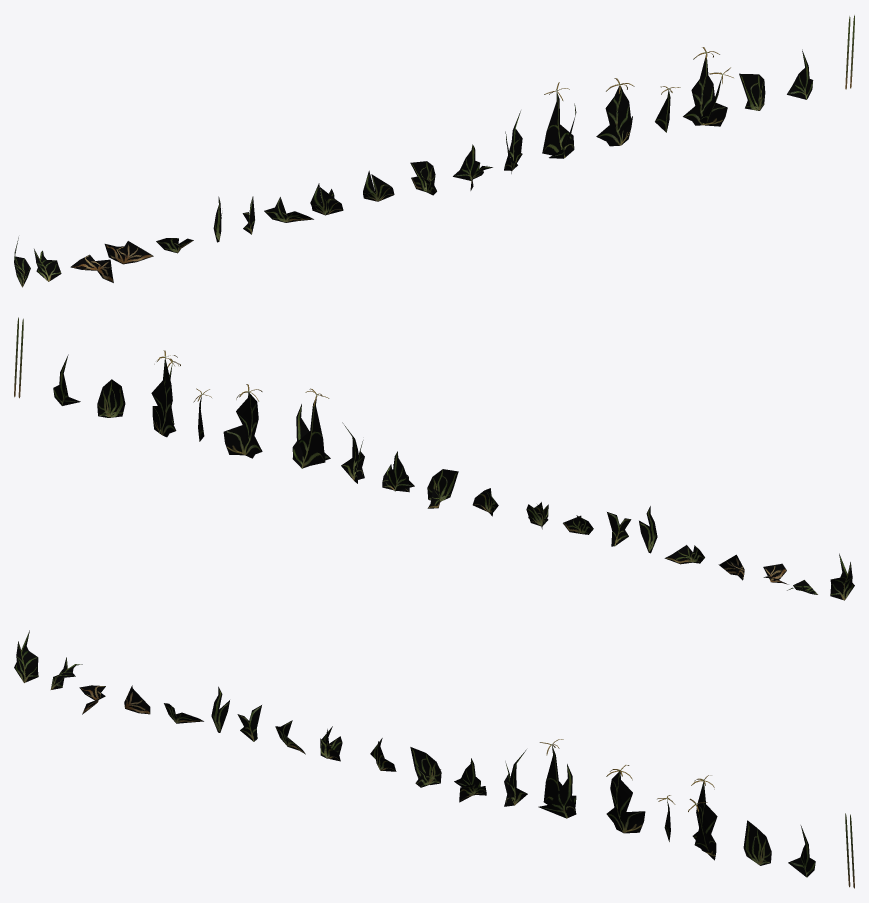
File: grass_bermuda_01_lod.glb
3 views of the same model, one above another, from view 1: azimuth 30°, elevation 25°; view 2: azimuth 150°, elevation 25°; view 3: azimuth 330°, elevation 25° (orthographic).
Visible parts, largest first — view 1: grass_bermuda_01_seedling_d, grass_bermuda_01_seedling_b, grass_bermuda_01_seedling_a, grass_bermuda_01_medium_b, grass_bermuda_01_dead_b, grass_bermuda_01_medium_c, grass_bermuda_01_small_c, grass_bermuda_01_small_d, grass_bermuda_01_medium_e, grass_bermuda_01_dead_a, grass_bermuda_01_medium_d, grass_bermuda_01_medium_f; view 2: grass_bermuda_01_seedling_b, grass_bermuda_01_seedling_a, grass_bermuda_01_seedling_d, grass_bermuda_01_medium_b, grass_bermuda_01_medium_c, grass_bermuda_01_medium_e, grass_bermuda_01_medium_a, grass_bermuda_01_medium_f; view 3: grass_bermuda_01_seedling_a, grass_bermuda_01_seedling_b, grass_bermuda_01_seedling_d, grass_bermuda_01_medium_b, grass_bermuda_01_medium_c, grass_bermuda_01_medium_a, grass_bermuda_01_medium_e, grass_bermuda_01_medium_f, grass_bermuda_01_medium_d.
Boxes of the visible parts, box(x1,y1,x2,y2) form: grass_bermuda_01_seedling_d: box(683, 47, 733, 126); grass_bermuda_01_seedling_b: box(596, 78, 634, 146); grass_bermuda_01_seedling_a: box(542, 82, 576, 158); grass_bermuda_01_medium_b: box(739, 73, 765, 110); grass_bermuda_01_dead_b: box(104, 241, 153, 264); grass_bermuda_01_medium_c: box(410, 161, 436, 195); grass_bermuda_01_small_c: box(310, 183, 343, 215); grass_bermuda_01_small_d: box(363, 170, 394, 201); grass_bermuda_01_medium_e: box(453, 144, 492, 190); grass_bermuda_01_dead_a: box(70, 254, 113, 282); grass_bermuda_01_medium_d: box(787, 49, 813, 99); grass_bermuda_01_medium_f: box(504, 111, 522, 173); grass_bermuda_01_seedling_b: box(223, 384, 262, 458); grass_bermuda_01_seedling_a: box(292, 388, 330, 468); grass_bermuda_01_seedling_d: box(151, 350, 180, 437); grass_bermuda_01_medium_b: box(97, 379, 125, 417); grass_bermuda_01_medium_c: box(427, 469, 458, 508); grass_bermuda_01_medium_e: box(382, 451, 414, 492); grass_bermuda_01_medium_a: box(830, 553, 854, 600); grass_bermuda_01_medium_f: box(341, 422, 364, 483); grass_bermuda_01_seedling_a: box(538, 739, 576, 818); grass_bermuda_01_seedling_b: box(606, 765, 645, 833); grass_bermuda_01_seedling_d: box(688, 775, 717, 860); grass_bermuda_01_medium_b: box(743, 820, 771, 865); grass_bermuda_01_medium_c: box(410, 747, 441, 787); grass_bermuda_01_medium_a: box(14, 630, 38, 682); grass_bermuda_01_medium_e: box(454, 758, 486, 802); grass_bermuda_01_medium_f: box(504, 749, 527, 806); grass_bermuda_01_medium_d: box(788, 825, 815, 877).
Size of the model in its own units: 1.69 by 0.1583 by 0.1409.
Materials: 1 (1 with a texture image).
